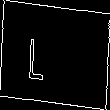L_N: (46, 28, 64, 82)
